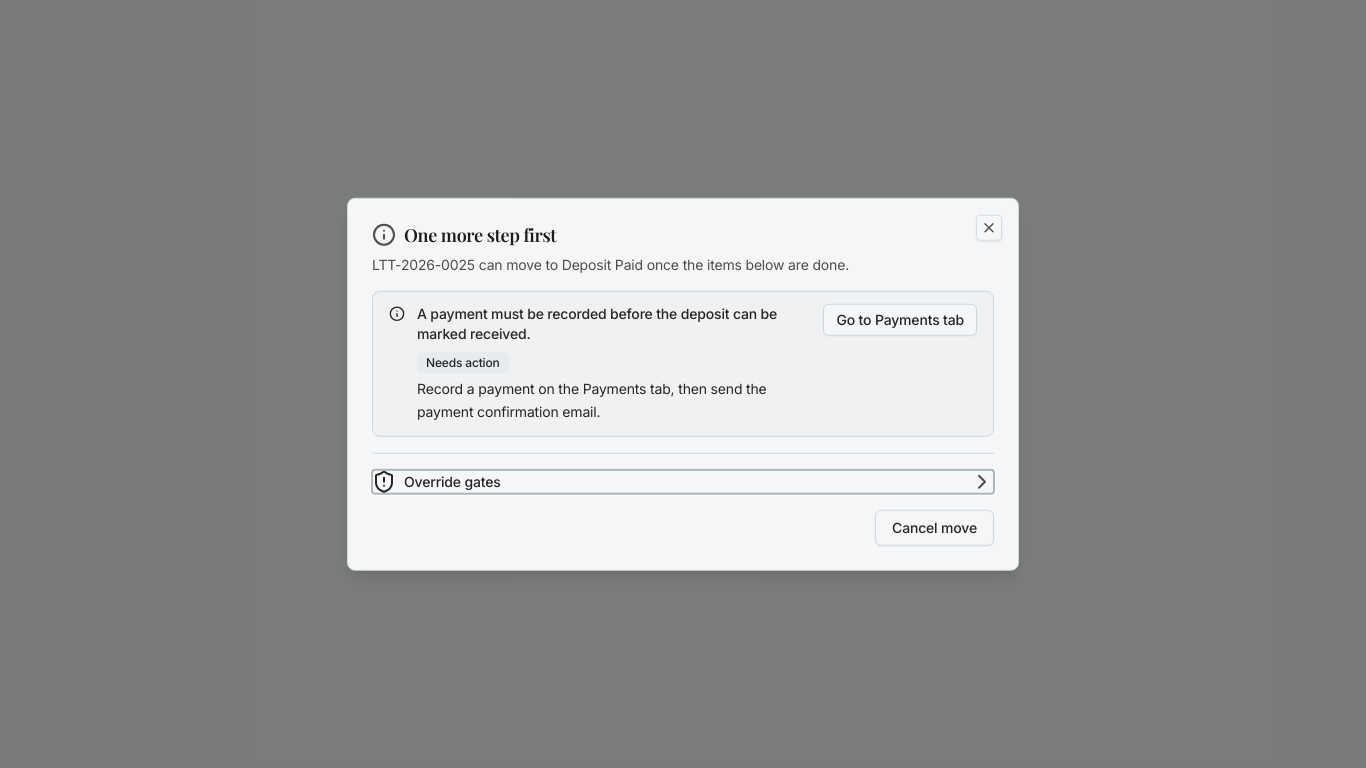
Test case: StageTransitionModal override panel › typing a reason enables Force move
Click the button "Override gates" at (452, 481), box [372,469,994,493]
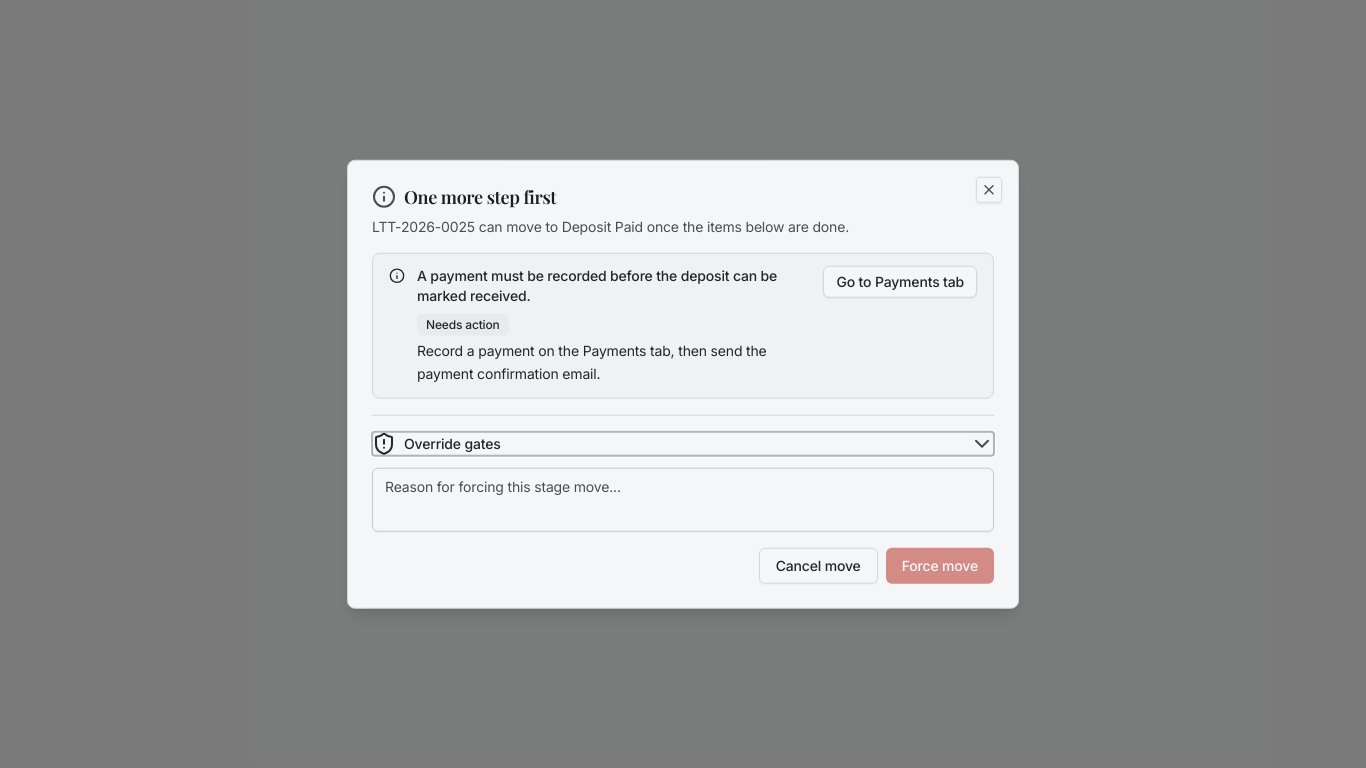
Type "Confirmed with client by phone." into the text box with placeholder "Reason for forcing this stage move..." at (683, 499), box [372,467,994,531]
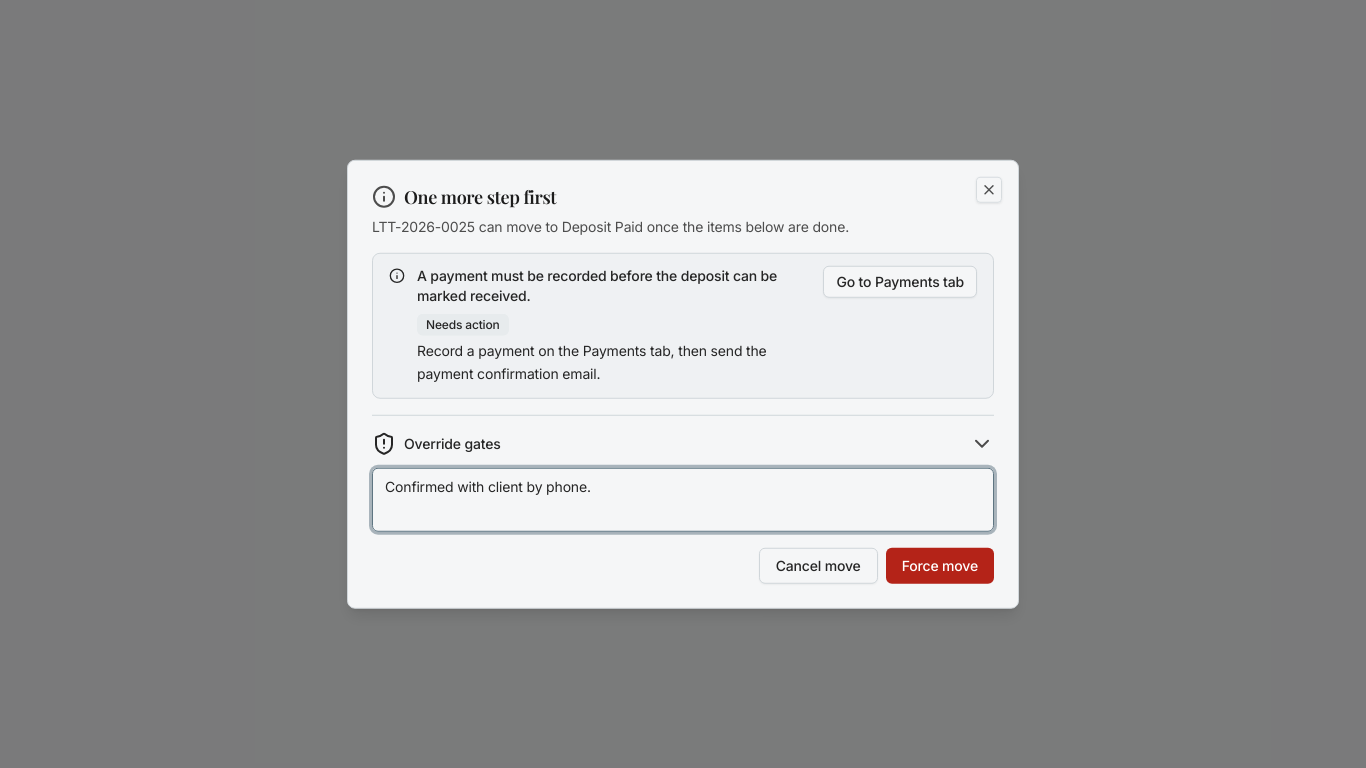
Check: the button "Force move" is enabled, box [886,547,994,583]
